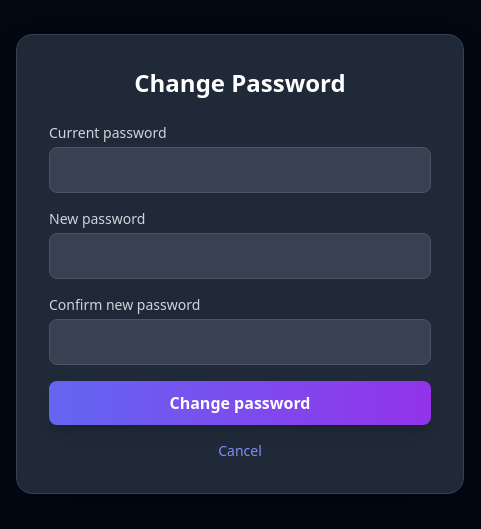
Test: ChangePasswordPage › blocks submit when new password equals current
Type "CurrentPass1" into the password field with id "current-password".
click(240, 170); type("CurrentPass1")  # box [49,147,431,193]
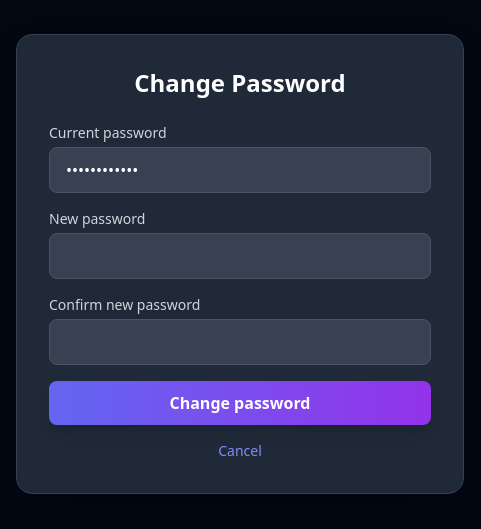
Type "CurrentPass1" into the password field with id "new-password".
click(240, 256); type("CurrentPass1")  # box [49,233,431,279]
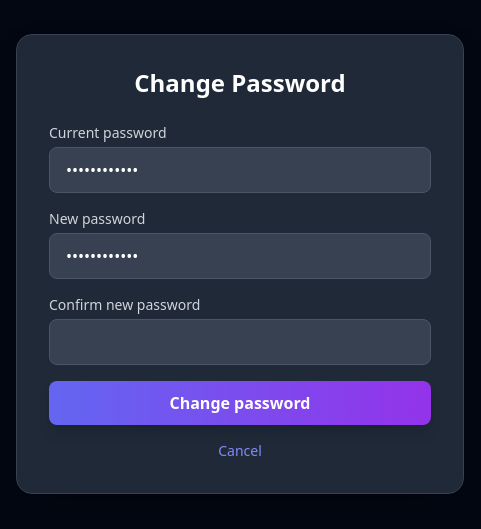
Type "CurrentPass1" into the password field with id "confirm-new-password".
click(240, 342); type("CurrentPass1")  # box [49,319,431,365]
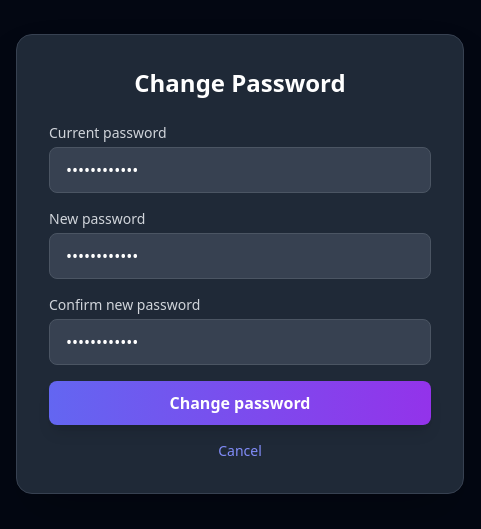
Submit the form, box [49,123,431,425]
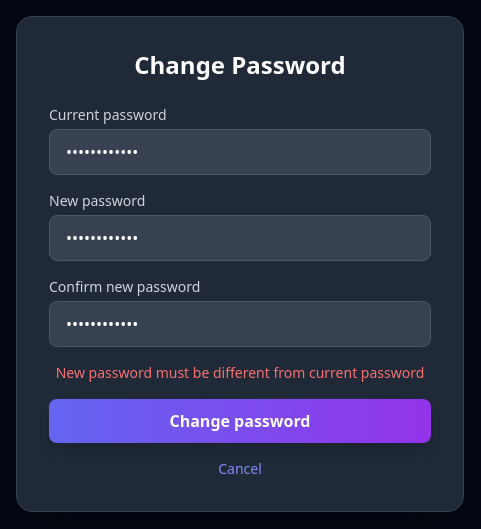
Check: the text with class "error" reads "New password must be different from current password", box [56,363,424,382]
